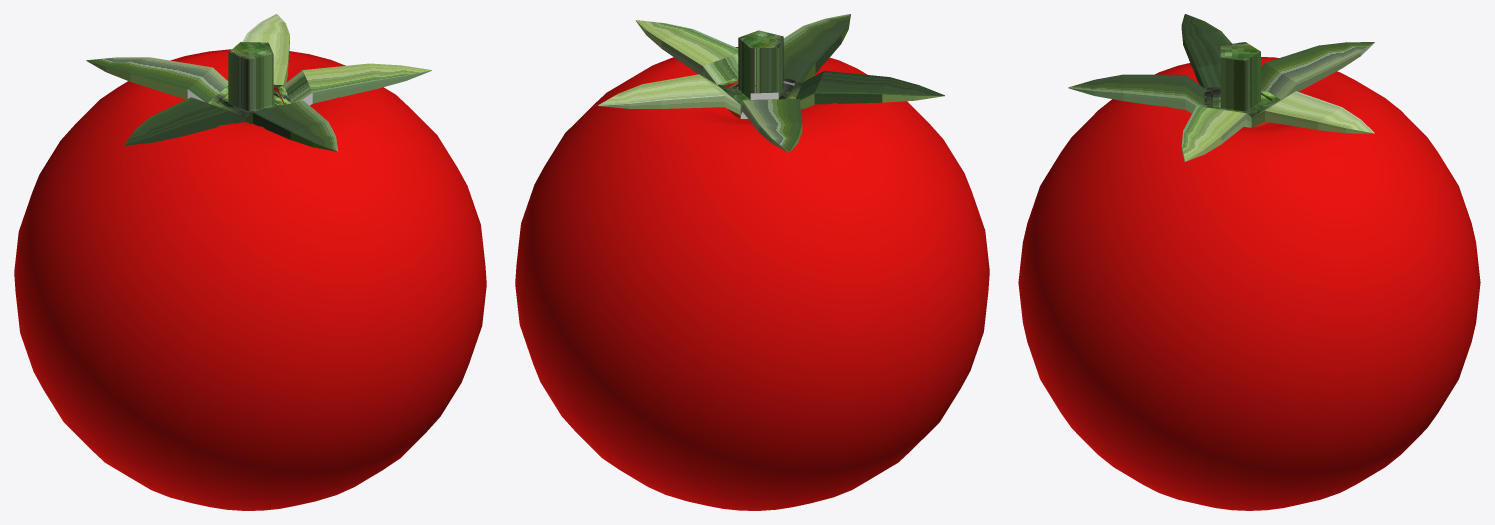
File: tomate.glb
3 views of the same model, side by side, from view 1: azimuth 30°, elevation 25°; view 2: azimuth 150°, elevation 25°; view 3: azimuth 270°, elevation 25° (orthographic). The views are drawn at different scales.
Parts seen in each view (by area): view 1: Sphère, Cylindre; view 2: Sphère, Cylindre; view 3: Sphère, Cylindre.
Part boxes in pixels (left/top/right/bottom): Sphère: left=14, top=49, right=486, bottom=510; Cylindre: left=86, top=14, right=431, bottom=151; Sphère: left=515, top=47, right=989, bottom=510; Cylindre: left=598, top=14, right=944, bottom=152; Sphère: left=1018, top=57, right=1480, bottom=510; Cylindre: left=1068, top=14, right=1374, bottom=161.
Bounding box in the file's own units: 4.06 × 4.19 × 4.03.
Materials: 2 (1 with a texture image).
